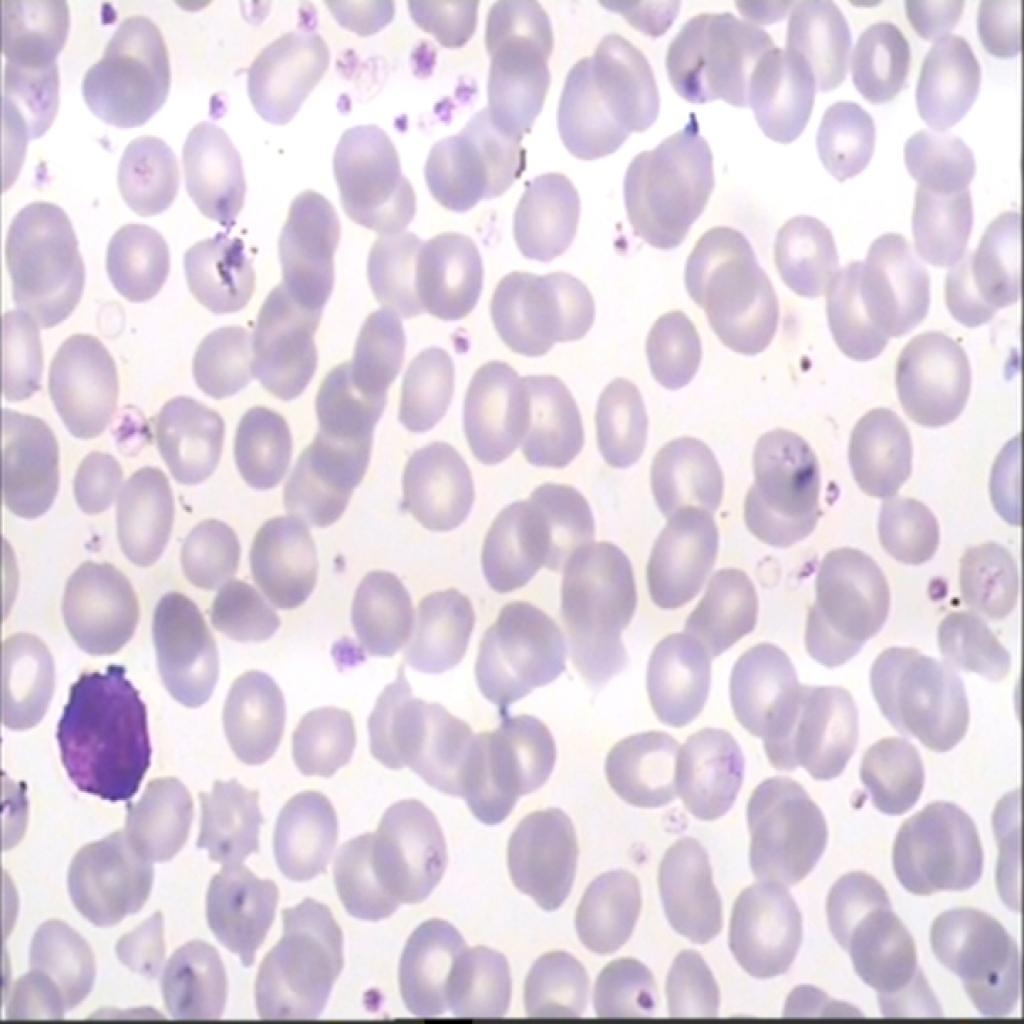Basofil: (50, 663, 166, 818)
Platelet: (398, 20, 440, 80), (441, 311, 478, 368), (327, 620, 366, 674), (320, 78, 358, 126), (632, 980, 672, 1022), (326, 34, 358, 85), (192, 84, 228, 128), (448, 64, 482, 108), (380, 108, 415, 146), (294, 0, 326, 36), (997, 343, 1023, 386), (674, 101, 703, 137), (424, 85, 451, 123), (603, 228, 633, 262), (356, 978, 382, 1015), (790, 338, 816, 373), (96, 0, 124, 32), (23, 153, 48, 183), (927, 574, 947, 610)
